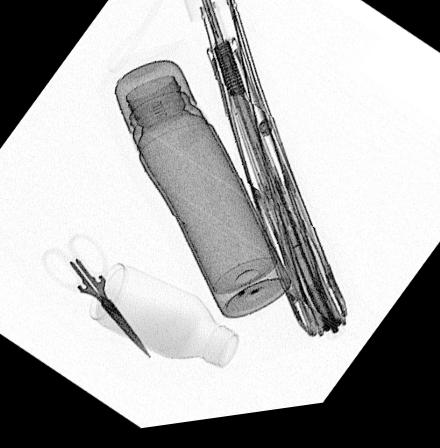Scissors: (38, 233, 152, 364)
